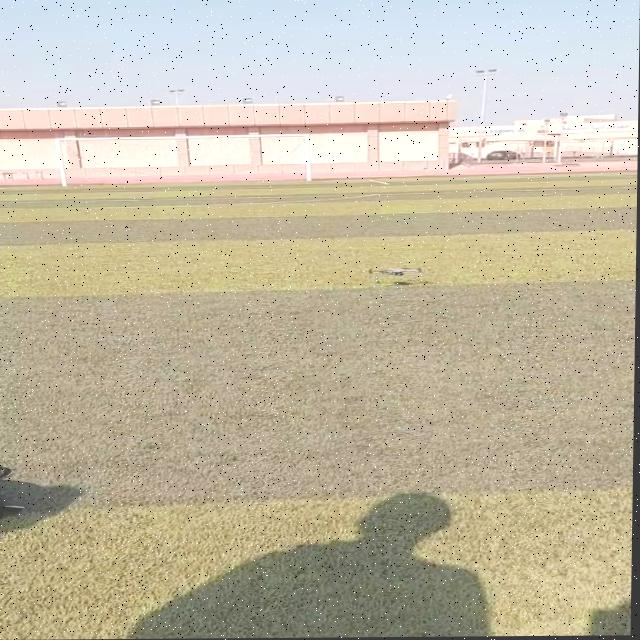drone: (361, 261, 427, 282)
